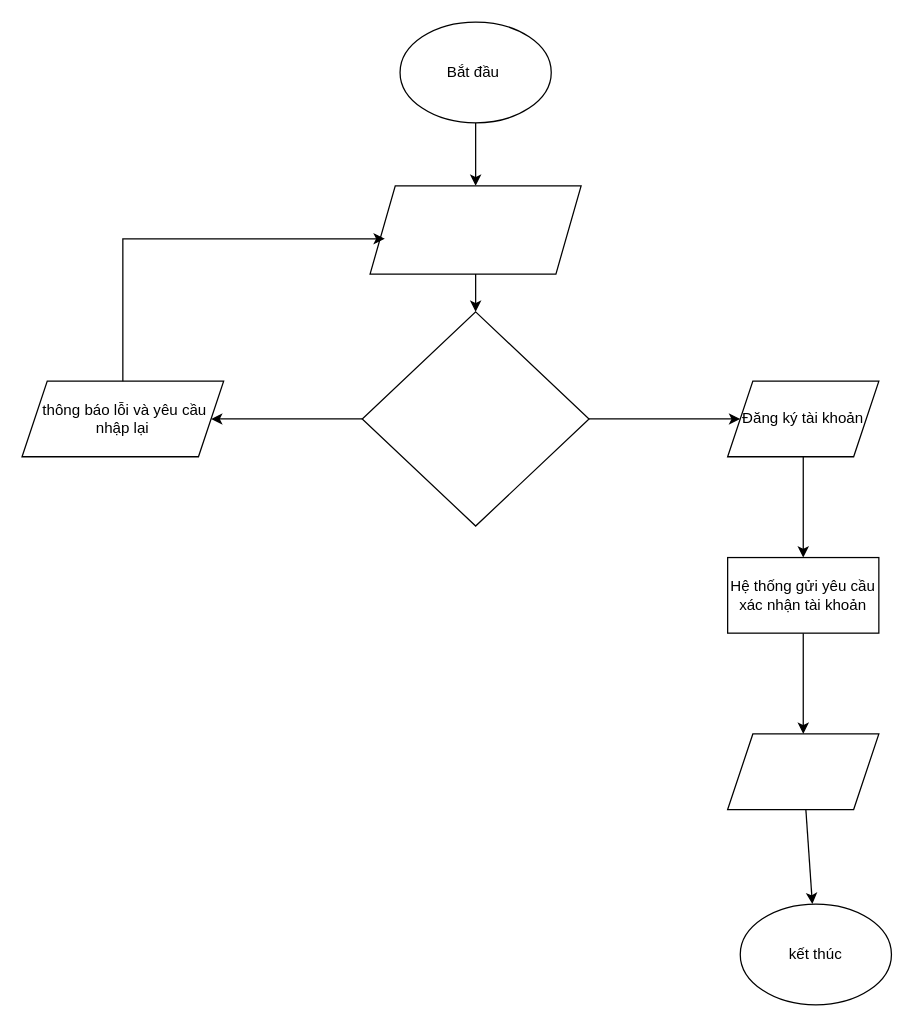
Image size: 914x1027. Some labels were removed from this diagram. The box of each missing label's shape, as (x1, y1, x2, y2) in pixels:
Kiểm tra thông tin đã hợp lệ chưa: (361, 311, 589, 526)
Nhập thông tin cá nhân như tên, email và mật khẩu.: (369, 185, 581, 274)
Đăng ký tài khoản thành công: (726, 733, 879, 810)
